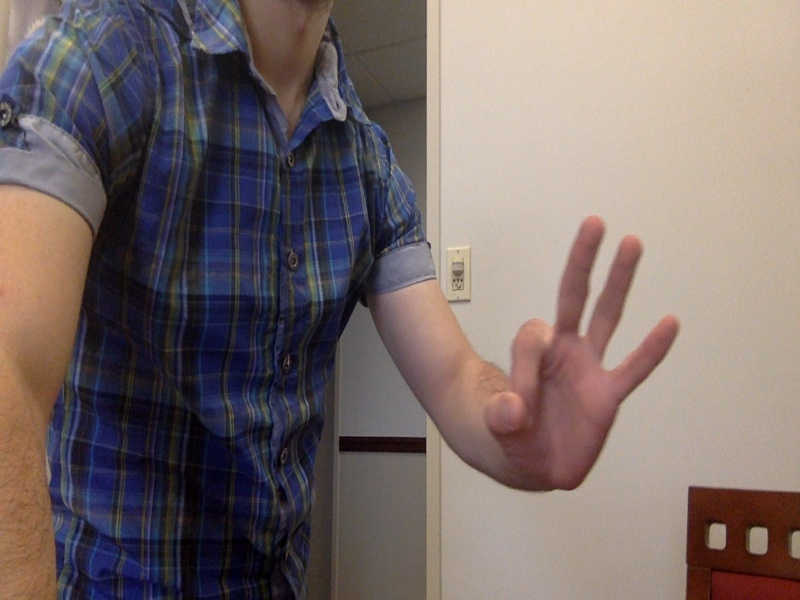3-hand: (489, 216, 683, 504)
